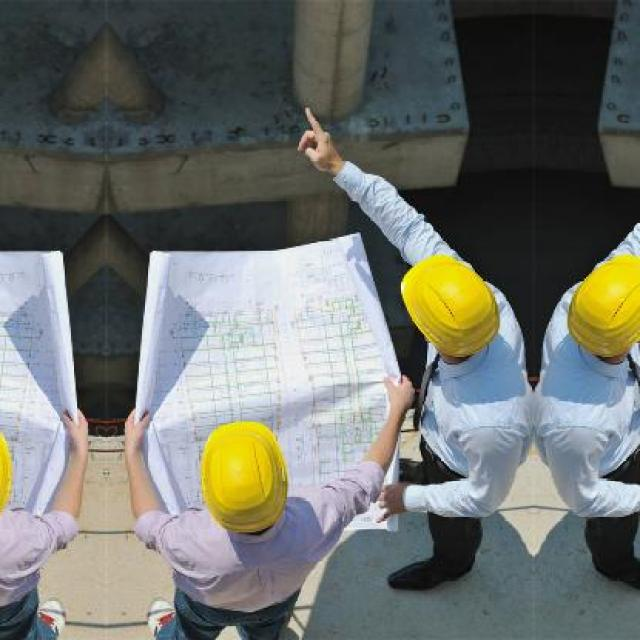helmet: (400, 253, 499, 362), (198, 420, 288, 528), (566, 252, 637, 363)
